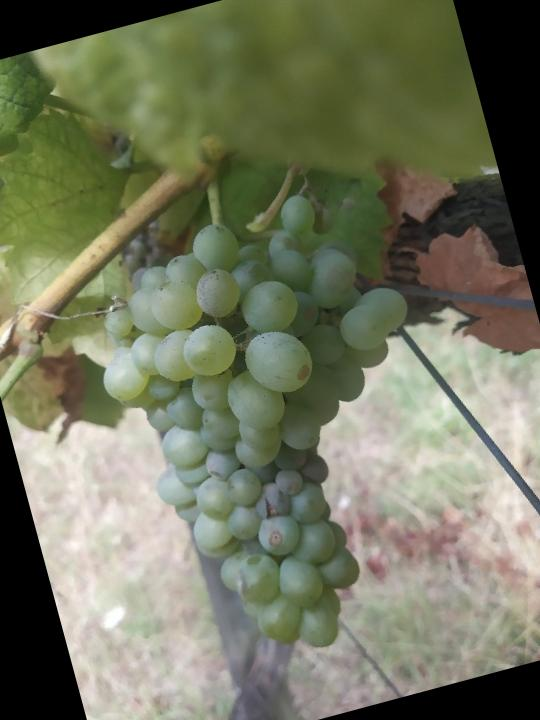grape: (69, 173, 490, 689)
